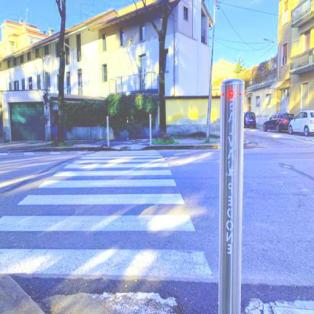Paso de Cebra: (0, 212, 216, 284), (13, 178, 189, 207), (62, 157, 170, 171)
